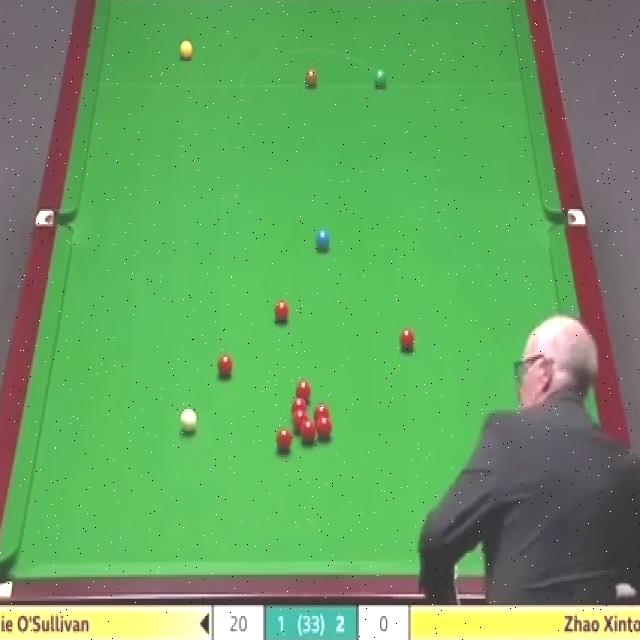blue-ball: (316, 228, 331, 252)
brown-ball: (304, 68, 318, 89)
green-ball: (373, 68, 389, 90)
red-ball: (216, 353, 234, 379), (273, 299, 290, 325), (398, 326, 415, 351), (291, 406, 308, 431), (317, 414, 333, 438), (295, 379, 311, 402), (278, 429, 294, 452), (290, 398, 307, 417), (301, 422, 316, 443), (314, 403, 329, 422)
white-ball: (180, 406, 198, 432)
yellow-ball: (179, 40, 192, 63)
